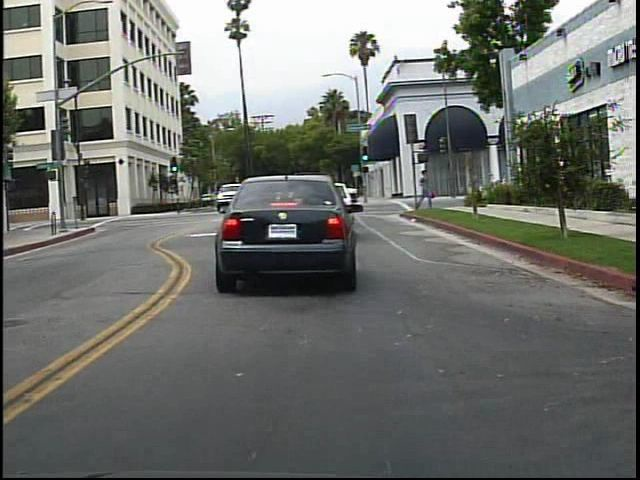person: (415, 169, 437, 215)
